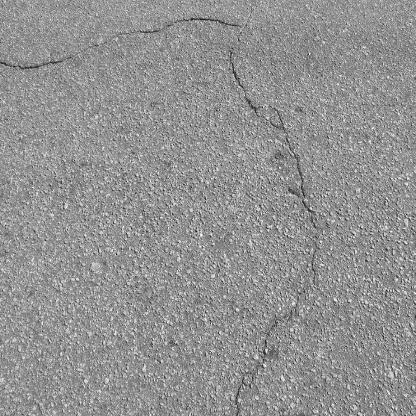Cracks: (204, 0, 322, 416), (0, 16, 202, 74)
